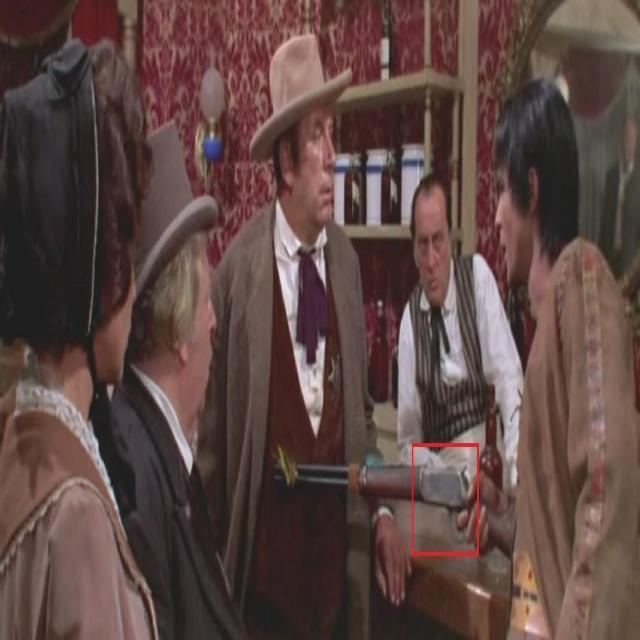gun-knife-thesis - v11 Yolov5 augmented: (265, 414, 517, 590)
